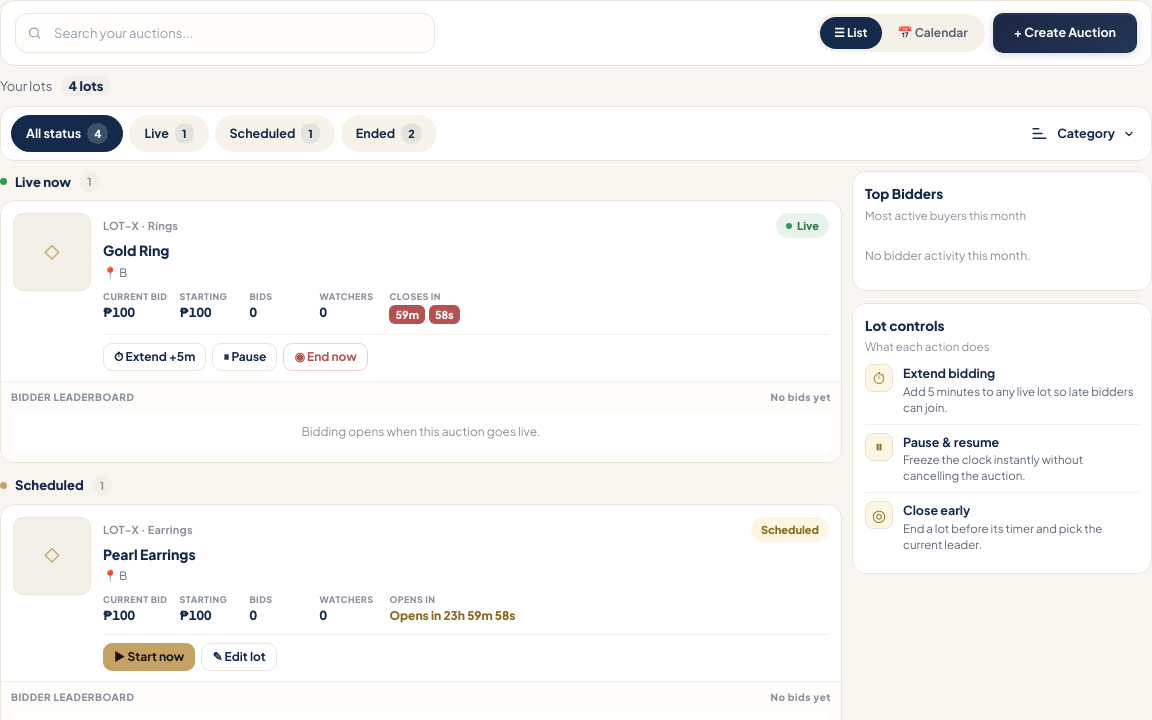
it: selecting Rings filters (case-insensitive); clearing restores
The image size is (1152, 720).
Expected: the text "Gold Ring" is shown, [103,241,169,259]
Click the button with class "mauc-cattrigger".
click(1083, 134)  # box [1024,117,1141,150]
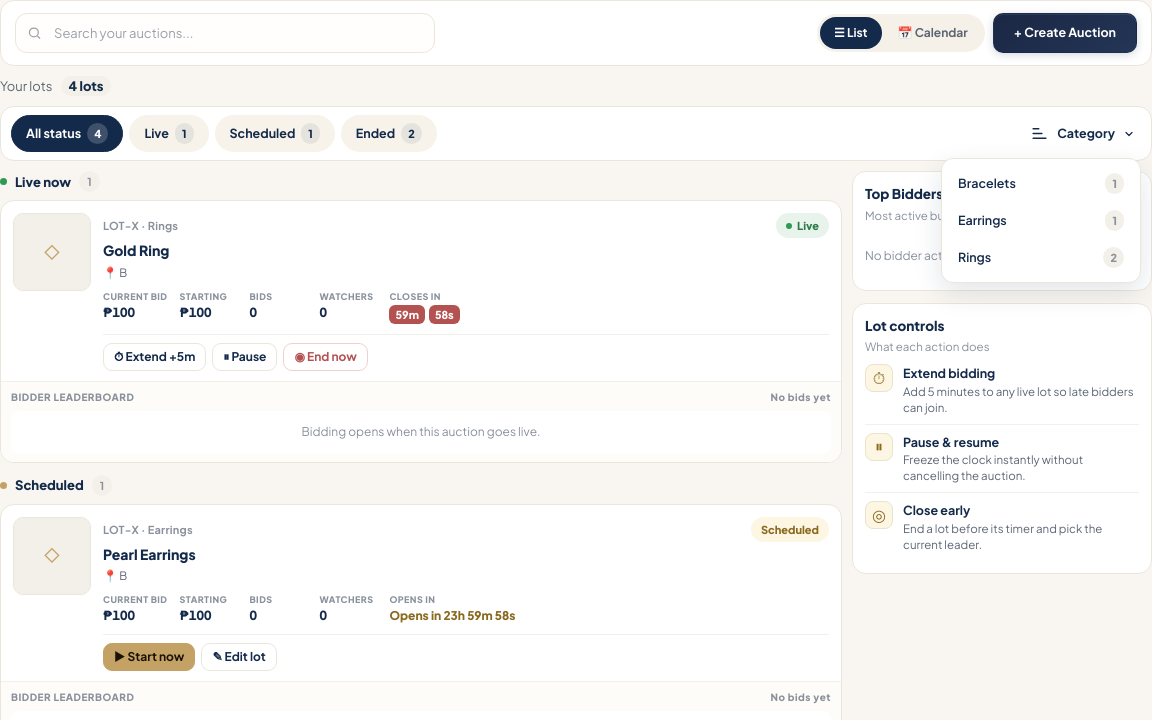
Click the button "Rings 2".
click(1041, 258)  # box [948,239,1134,276]
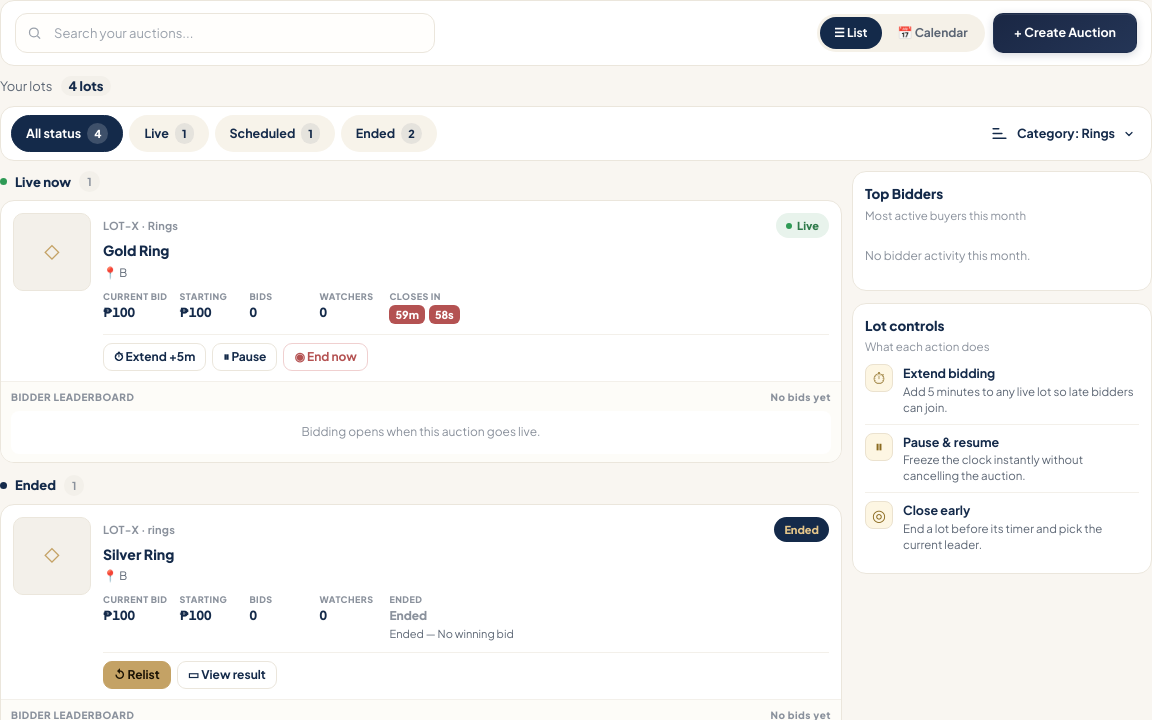
Expected: the text "Gold Ring" is shown, [103,241,169,259]
Expected: the text "Pearl Earrings" is gone
Expected: the button with aria-label "Category filter: Rings" is shown
Click the button with aria-label "Category filter: Rings".
click(1062, 134)  # box [984,117,1141,150]
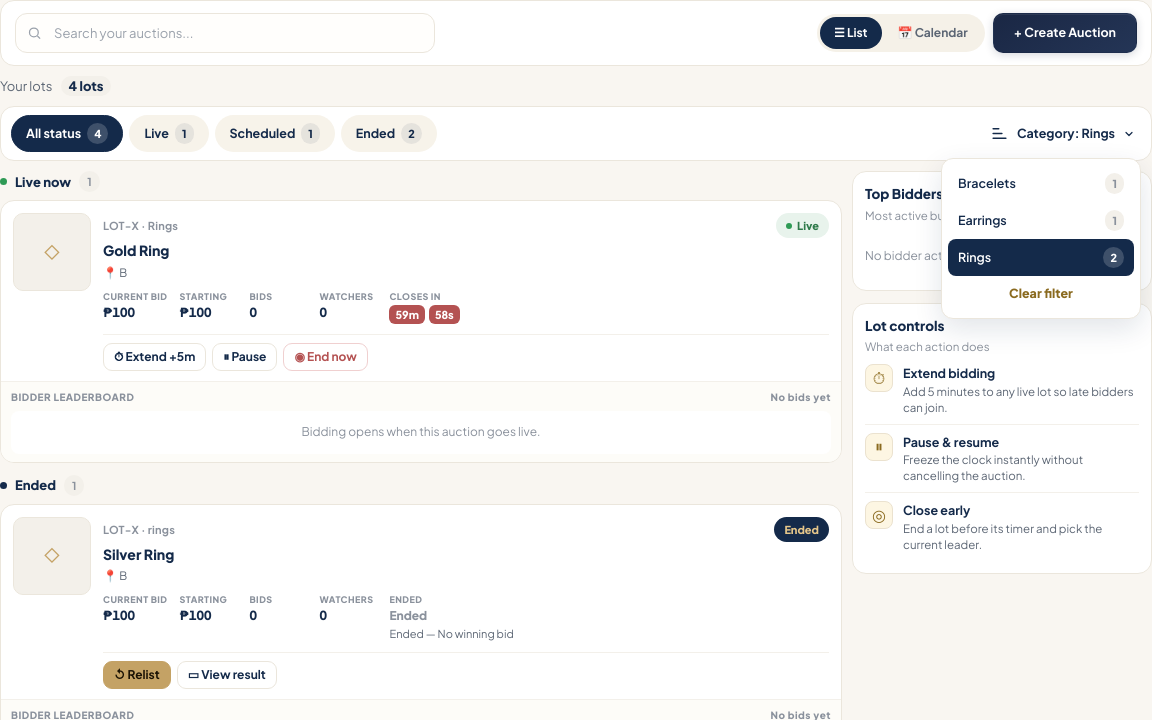
Click the button "Clear filter".
click(1041, 294)  # box [948,276,1134,312]
(page scrolled)
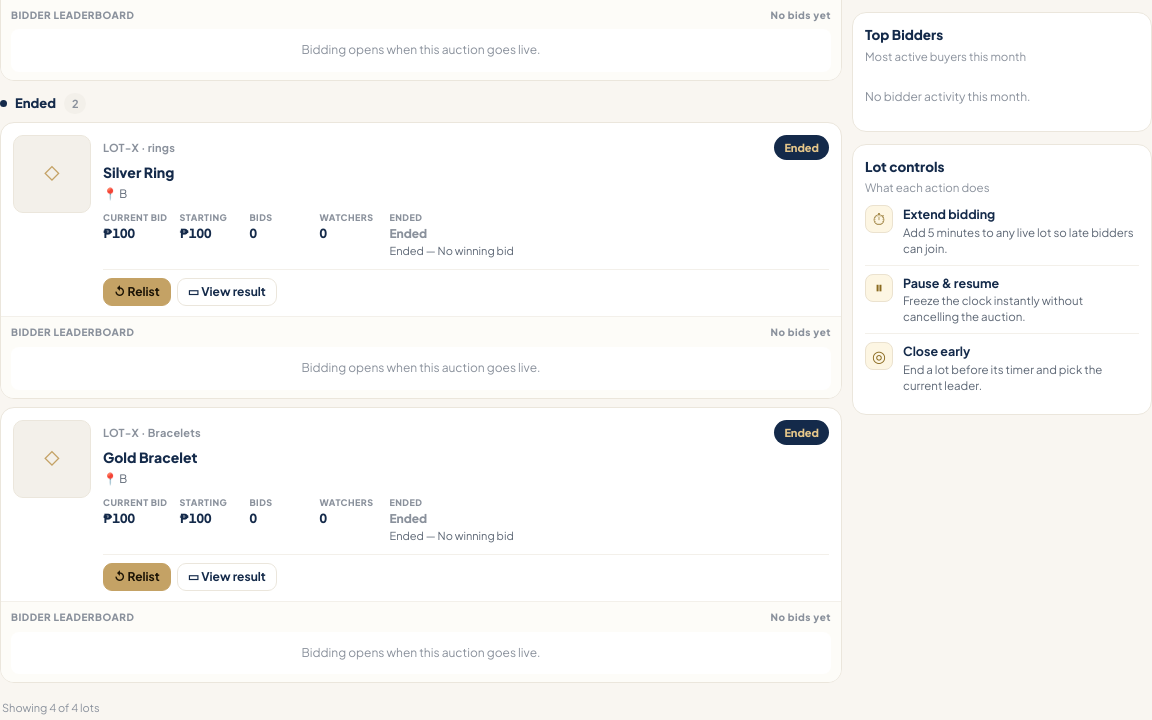
Expected: the text "Gold Bracelet" is shown, [103,448,197,466]
